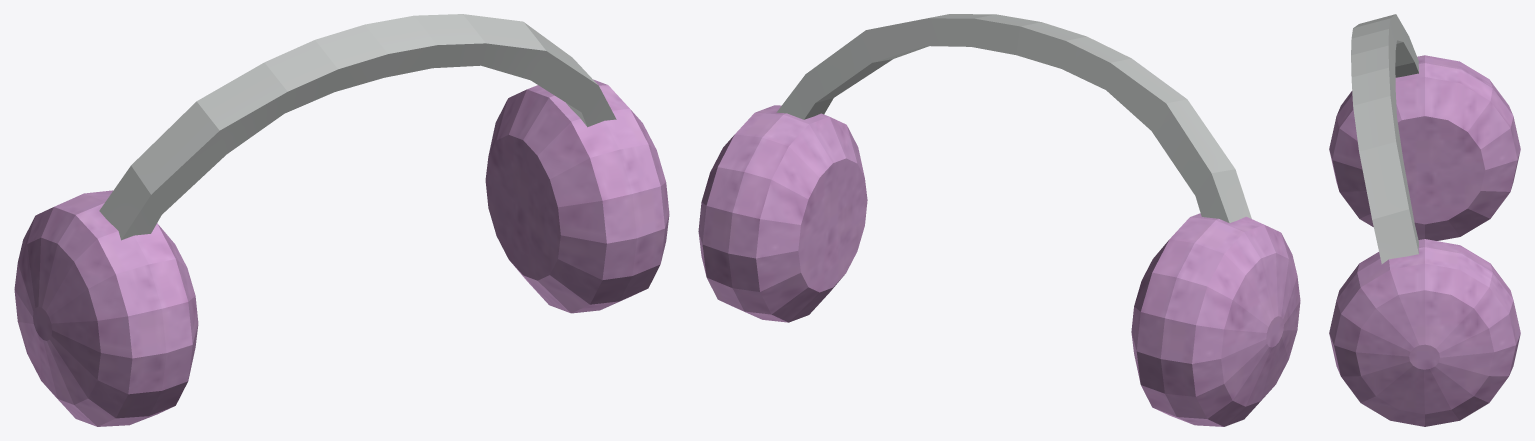
The model's file is earmuffspink.fbx.
The picture shows the model from 3 angles, left to right: view 1: azimuth 30°, elevation 25°; view 2: azimuth 150°, elevation 25°; view 3: azimuth 270°, elevation 25°; orthographic projection. The views are drawn at different scales.
Parts seen in each view (by area): view 1: earmuffspink; view 2: earmuffspink; view 3: earmuffspink.
Part boxes in pixels (box(x1,y1,x2,y2)): earmuffspink: box(14, 14, 669, 426); earmuffspink: box(698, 14, 1300, 426); earmuffspink: box(1329, 14, 1520, 426).
Size of the model in its own units: 34.91 by 19.55 by 12.06.
